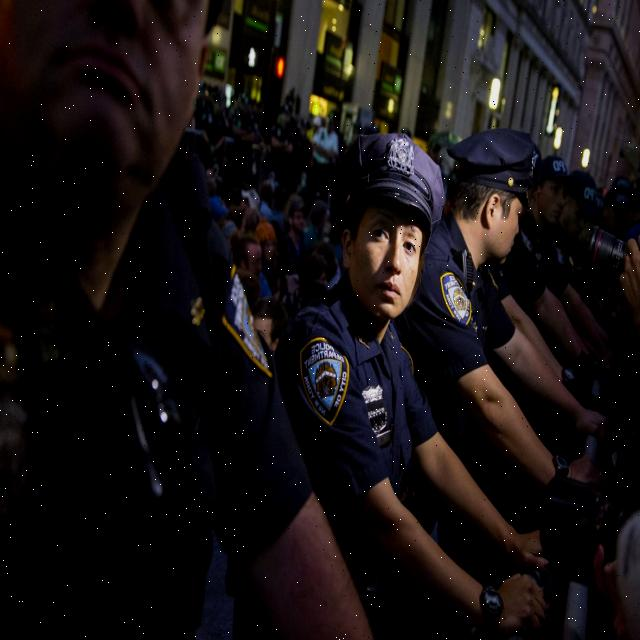police: (279, 112, 550, 640), (424, 86, 615, 546)
